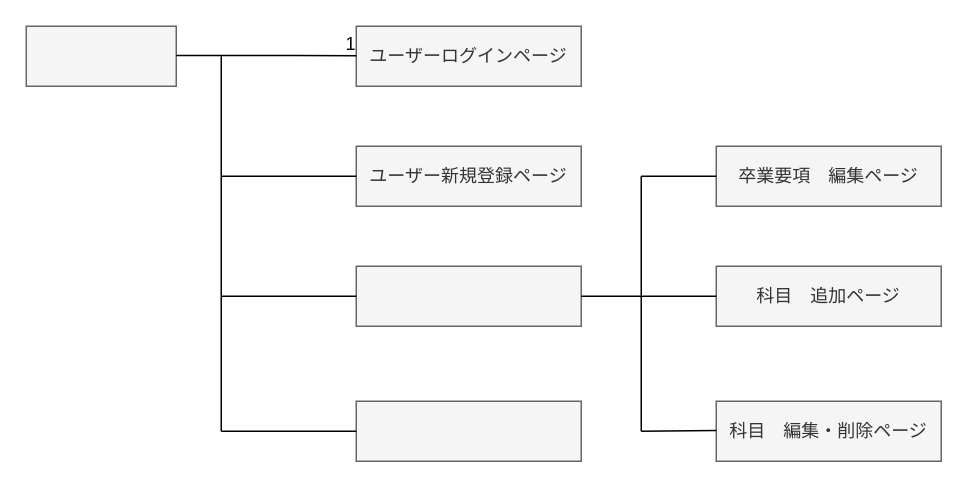
Image size: 968x488. Some labels were removed from this diagram. The shapes that lost their labels are listed below. From the top down, each one's centre as x and y in pixels, then its label:
At point (100, 55): "ホームページ".
At point (468, 295): "一覧ページ".
At point (468, 430): "卒業要項 新規登録ページ".
